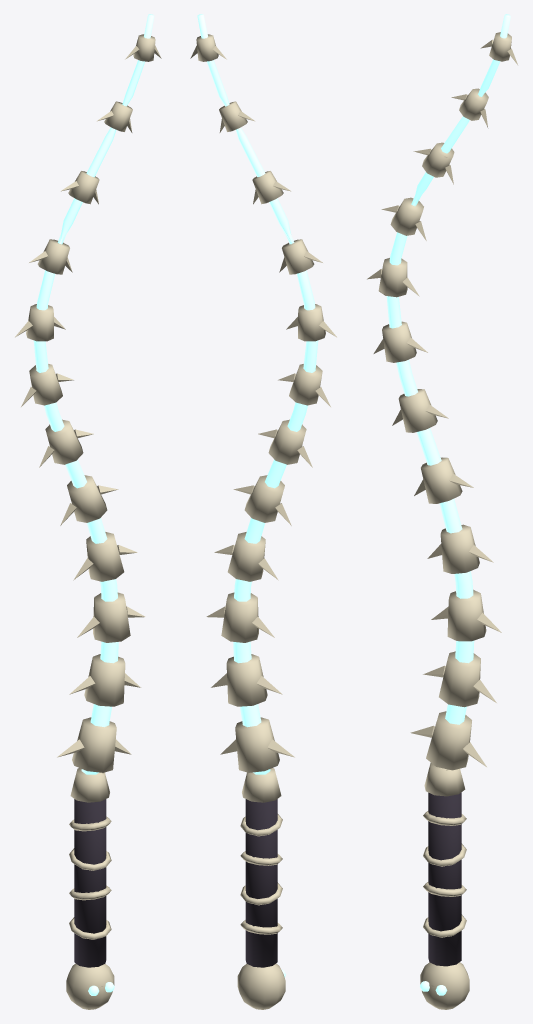
The model's file is 09_dead_whip.fbx.
3 renders of one model, left to right at view 1: azimuth 30°, elevation 25°; view 2: azimuth 150°, elevation 25°; view 3: azimuth 330°, elevation 25°, orthographic. The views are drawn at different scales.
Parts seen in each view (by area): view 1: Weapon; view 2: Weapon; view 3: Weapon.
Part boxes in pixels (box(x1,y1,x2,y2)): Weapon: box(15, 14, 161, 1009); Weapon: box(190, 14, 336, 1009); Weapon: box(367, 14, 517, 1009).
Bounding box in the file's own units: 26.52 × 168 × 8.
Materials: 2 (1 with a texture image).
